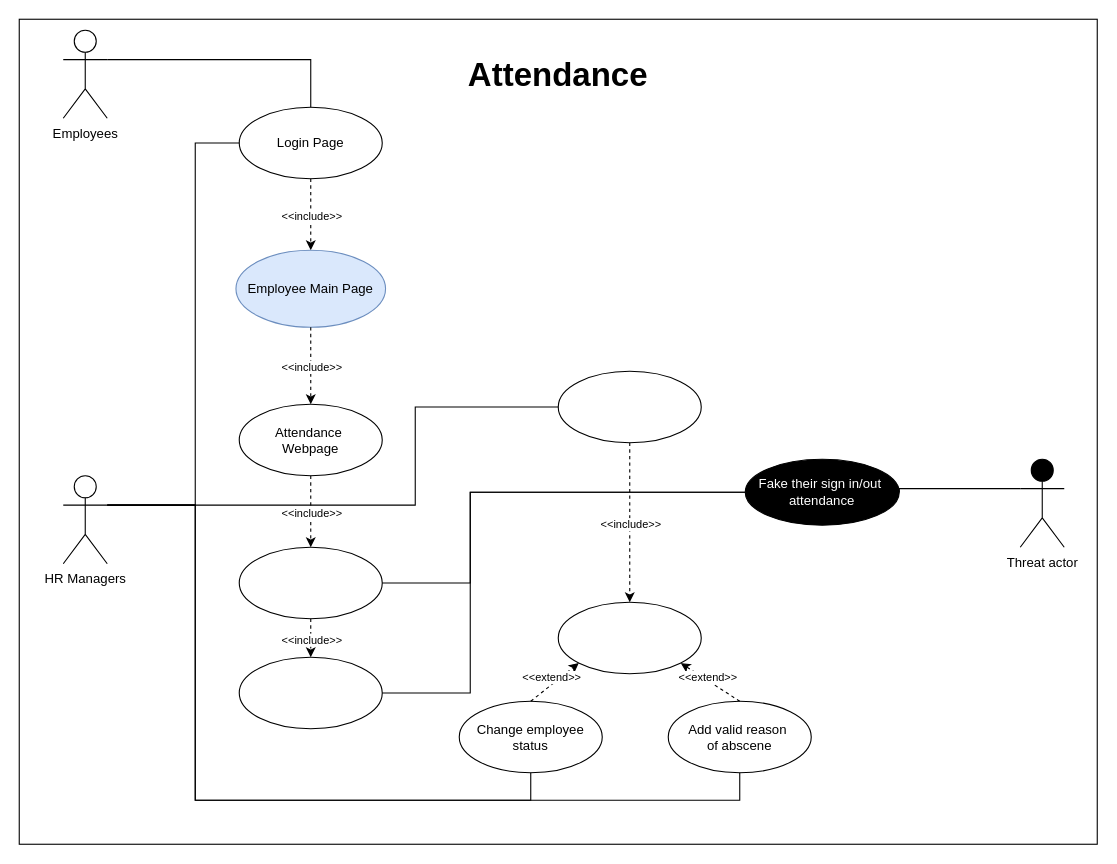
Some shapes in this 1117 by 864 pixel diagram are drawn without their labels. Here are the shapes that lost their labels. From the top down, the box of each, then its label:
(557, 370, 701, 443): Show Employee List
(238, 546, 382, 619): Take their time in Attendance
(557, 601, 701, 674): Click on specific Employee
(238, 656, 382, 729): Take their time out Attendance
